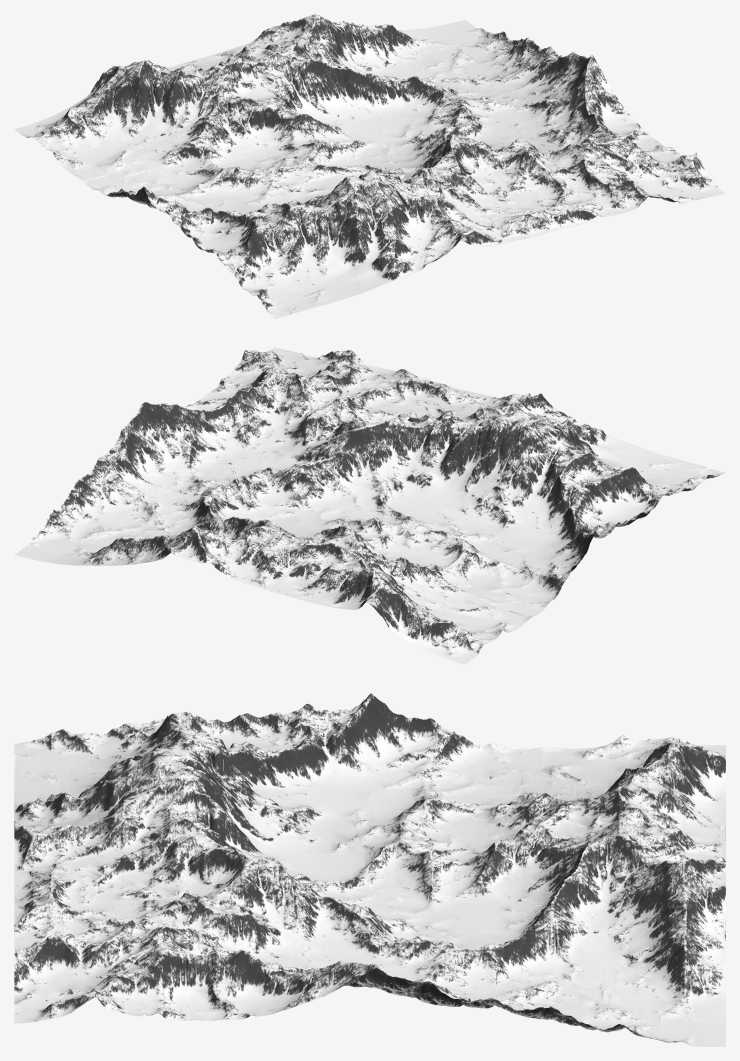
The model's file is mountain.glb.
3 views of the same model, one above another, from view 1: azimuth 30°, elevation 25°; view 2: azimuth 150°, elevation 25°; view 3: azimuth 270°, elevation 25° (orthographic). The views are drawn at different scales.
Parts seen in each view (by area): view 1: Object_3, Object_2, Object_4; view 2: Object_2, Object_3, Object_4; view 3: Object_2, Object_3, Object_4.
Part boxes in pixels (x1,y1,x2,y2): Object_3: (91, 24, 725, 314); Object_2: (14, 14, 655, 318); Object_4: (31, 14, 535, 189); Object_2: (14, 373, 725, 664); Object_3: (21, 347, 710, 613); Object_4: (27, 476, 540, 654); Object_2: (14, 693, 725, 1046); Object_3: (14, 693, 708, 1046); Object_4: (503, 740, 714, 1045).
Bounding box in the file's own units: 1 × 0.1433 × 1.
Materials: 1 (1 with a texture image).
